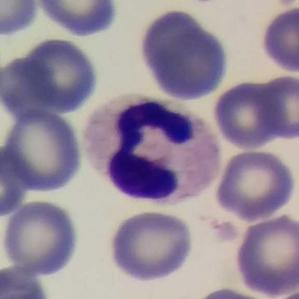Neutrophil: (74, 90, 227, 212)
RBC: (2, 34, 103, 118), (0, 107, 86, 196), (105, 207, 195, 284), (0, 198, 82, 278), (212, 147, 298, 222), (148, 29, 230, 103), (231, 212, 299, 298), (211, 76, 285, 151), (141, 9, 201, 75), (32, 0, 121, 39), (253, 72, 299, 142), (258, 4, 299, 75), (0, 141, 31, 220), (0, 263, 52, 299), (0, 0, 41, 39), (186, 284, 284, 299)
